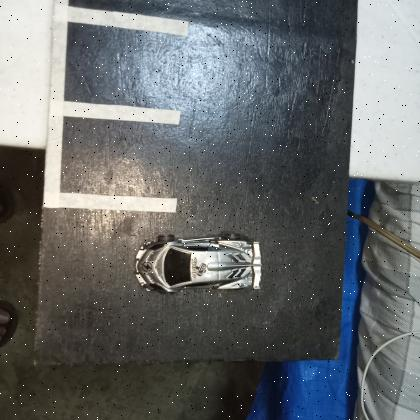Car: (135, 238, 260, 293)
